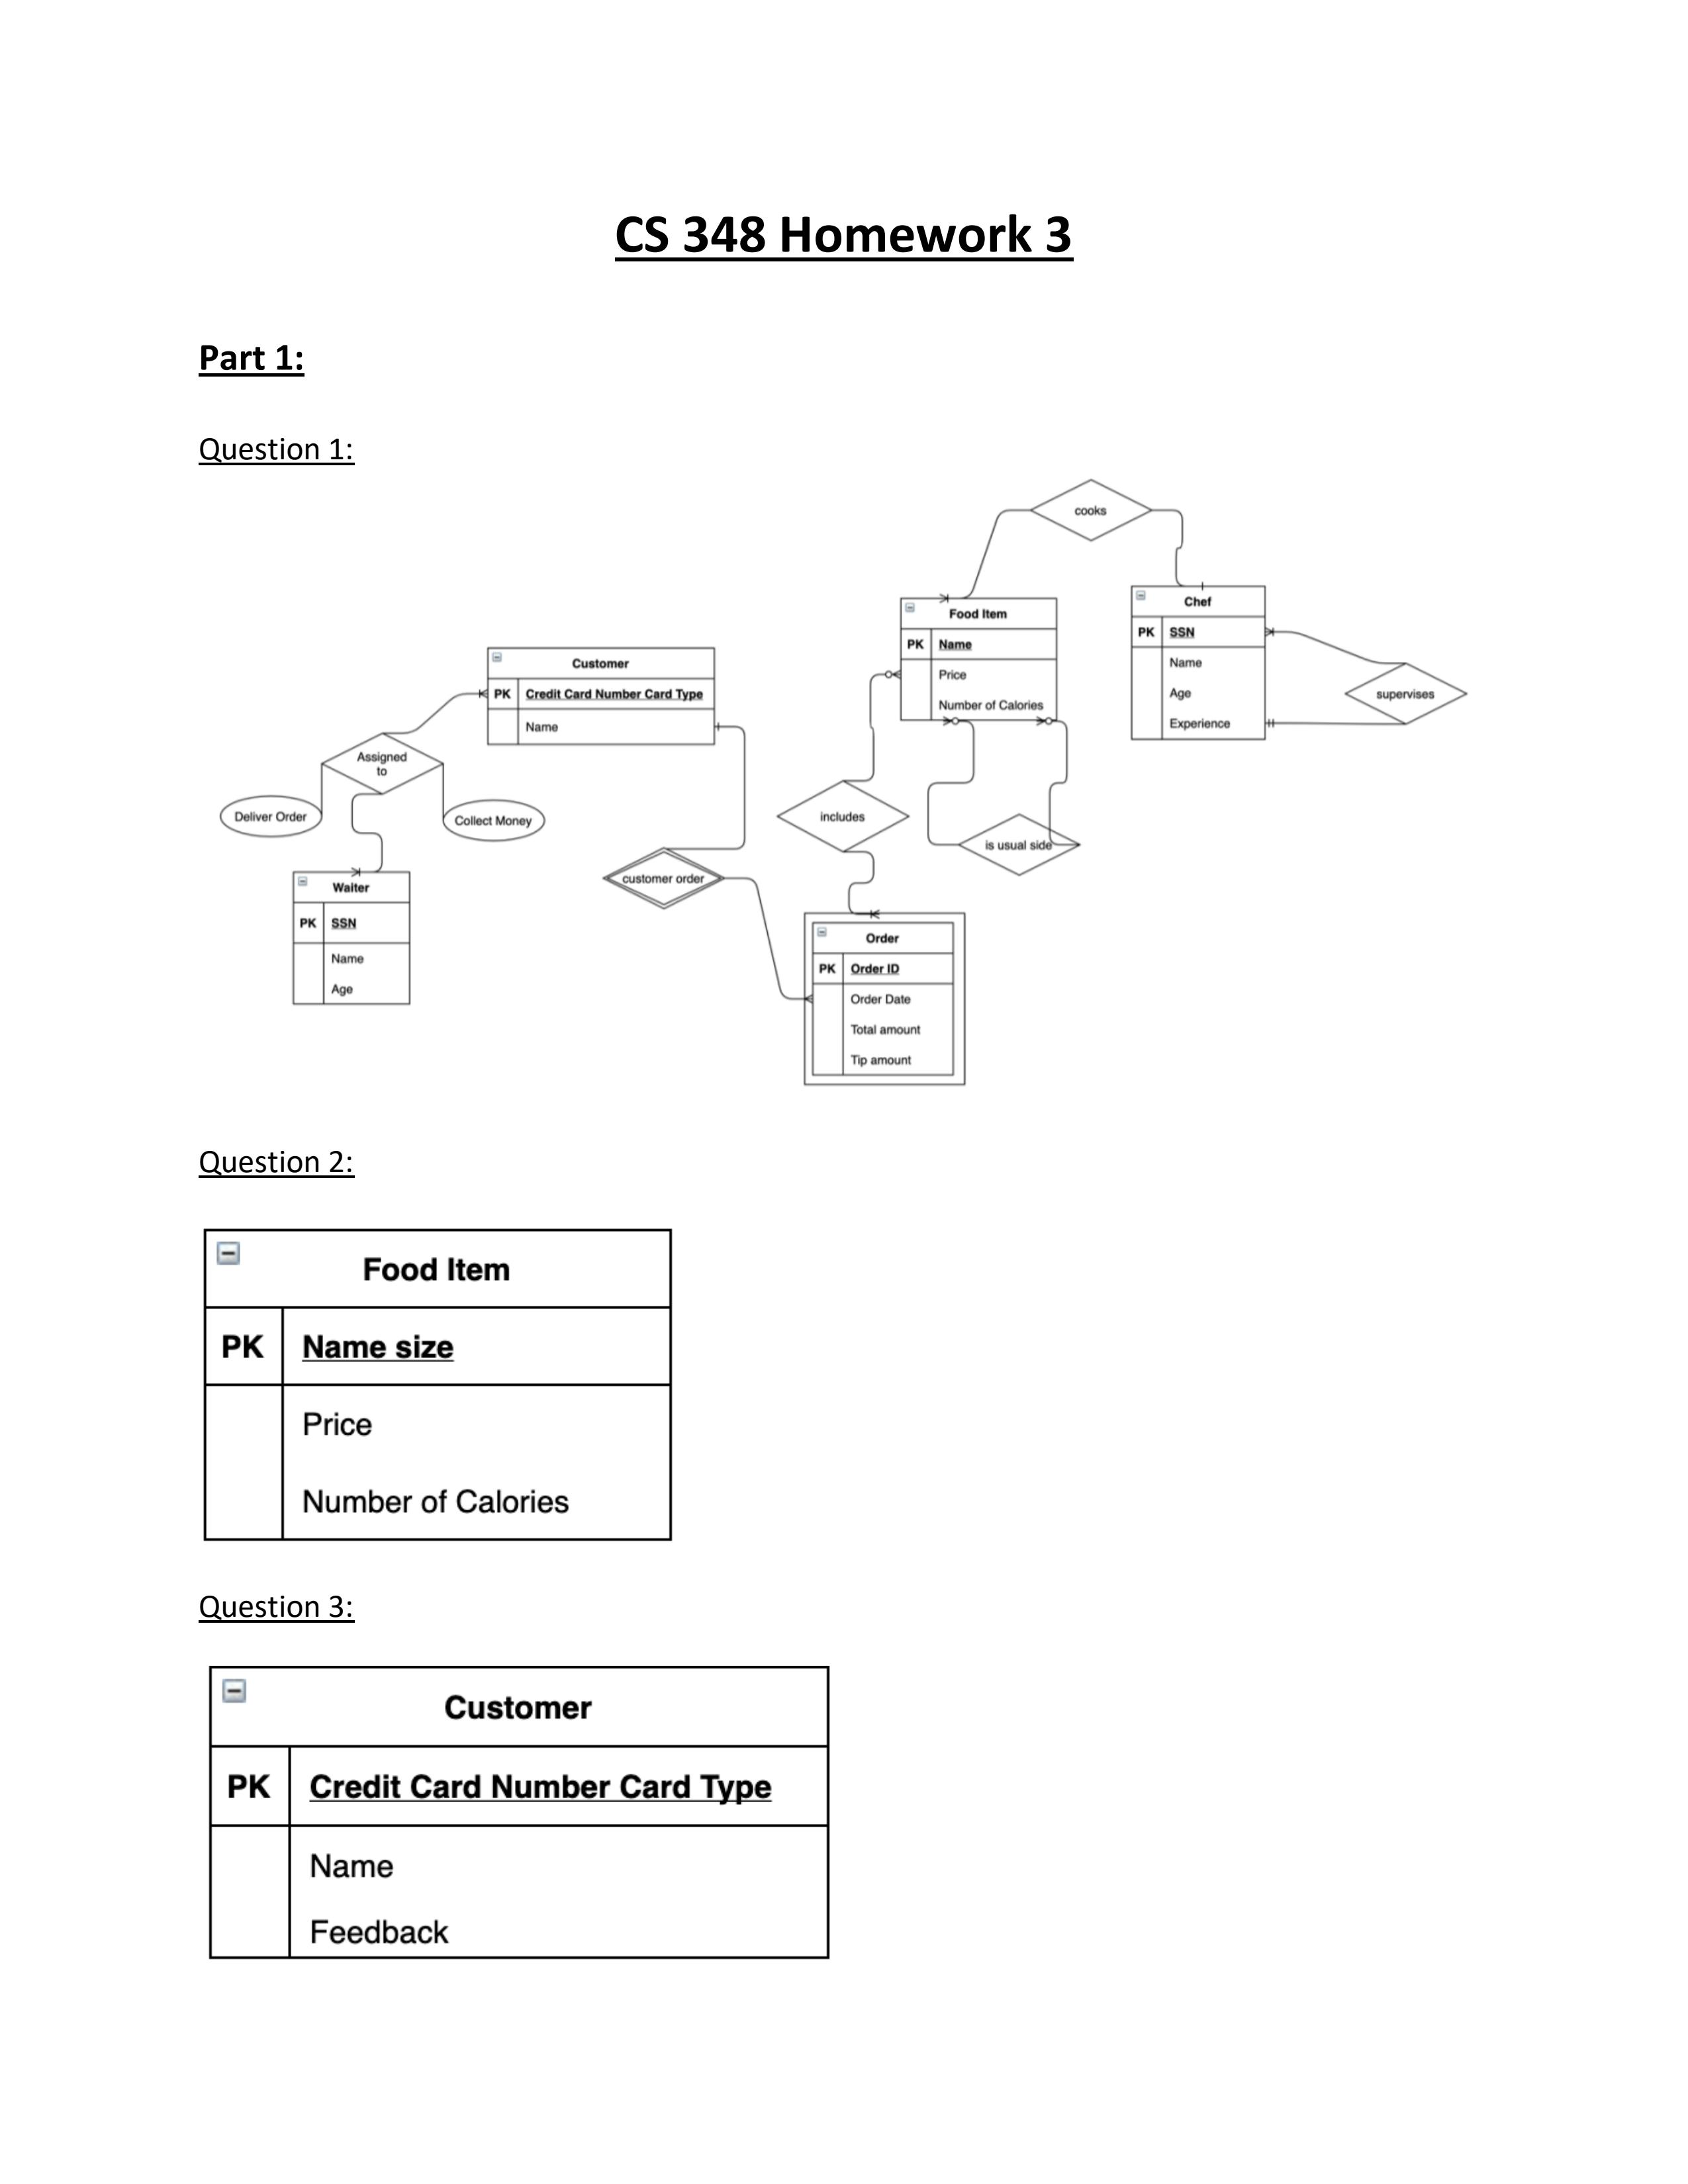Attribute: (442, 799, 546, 844), (220, 794, 323, 838)
Entity: (207, 1665, 832, 1961), (200, 1227, 676, 1542), (486, 645, 716, 746), (810, 920, 956, 1076), (1129, 585, 1266, 741), (899, 597, 1059, 721), (293, 870, 411, 1005)
Relationship: (777, 780, 910, 853), (603, 847, 725, 911), (321, 732, 443, 794), (957, 814, 1080, 876), (1030, 479, 1153, 541), (1344, 663, 1468, 723)
